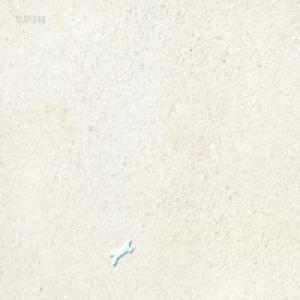Wrench: (109, 237, 132, 266)
